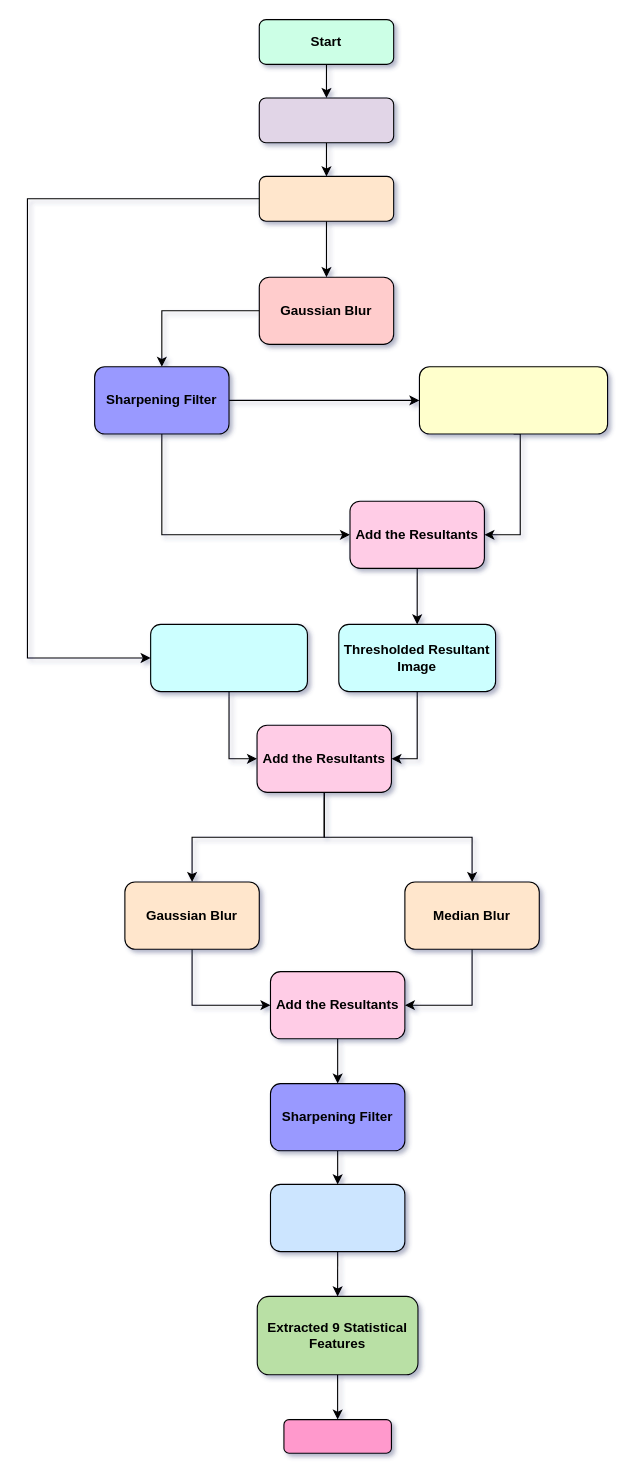
Some shapes in this 634 by 1480 pixel diagram are drawn without their labels. Each missing label, with the box of its shape:
Canny Edge Detector: (418, 366, 608, 434)
End: (283, 1418, 391, 1453)
GrayScale Transform: (258, 175, 394, 221)
Import the Frame: (258, 97, 394, 143)
Obtained The Segmented Image: (269, 1183, 405, 1252)
Thresholded Original Image: (150, 623, 307, 692)
